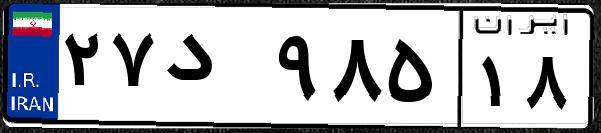1: (475, 38, 525, 113)
2: (57, 26, 110, 100)
5: (385, 28, 445, 110)
7: (110, 28, 158, 98)
8: (330, 28, 385, 110), (525, 38, 570, 115)
9: (270, 28, 330, 110)
د: (158, 20, 270, 120)
